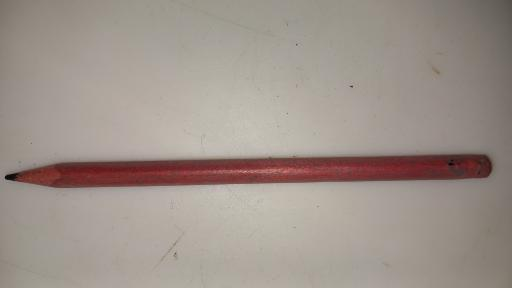Pencil: (4, 153, 494, 189)
